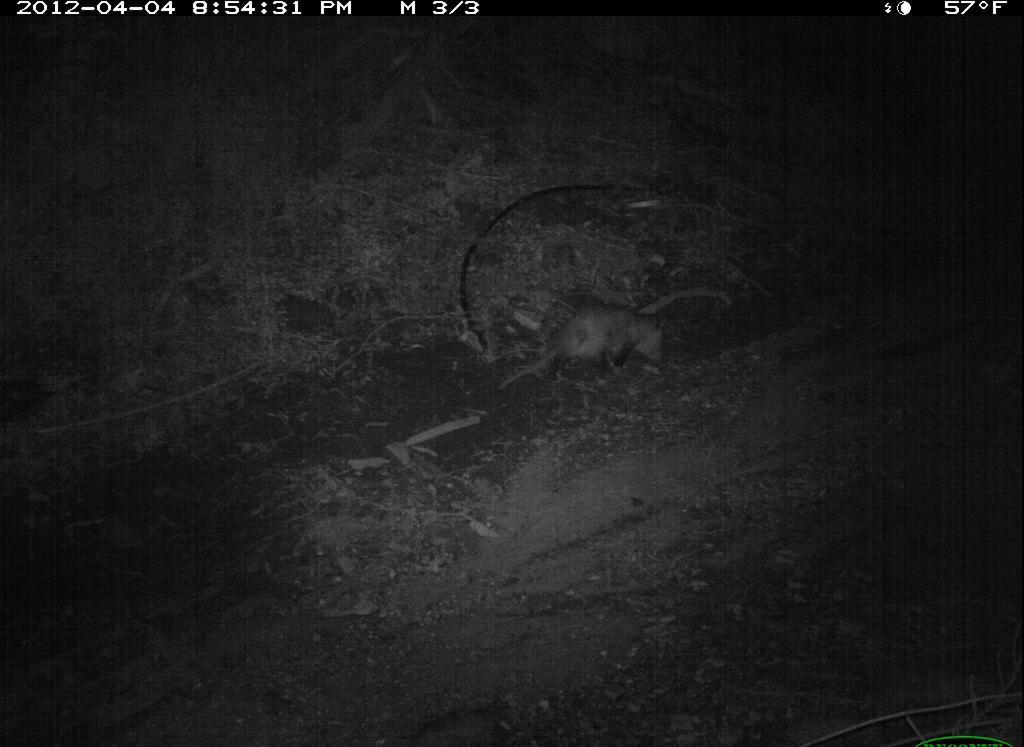opossum: (493, 300, 676, 401)
